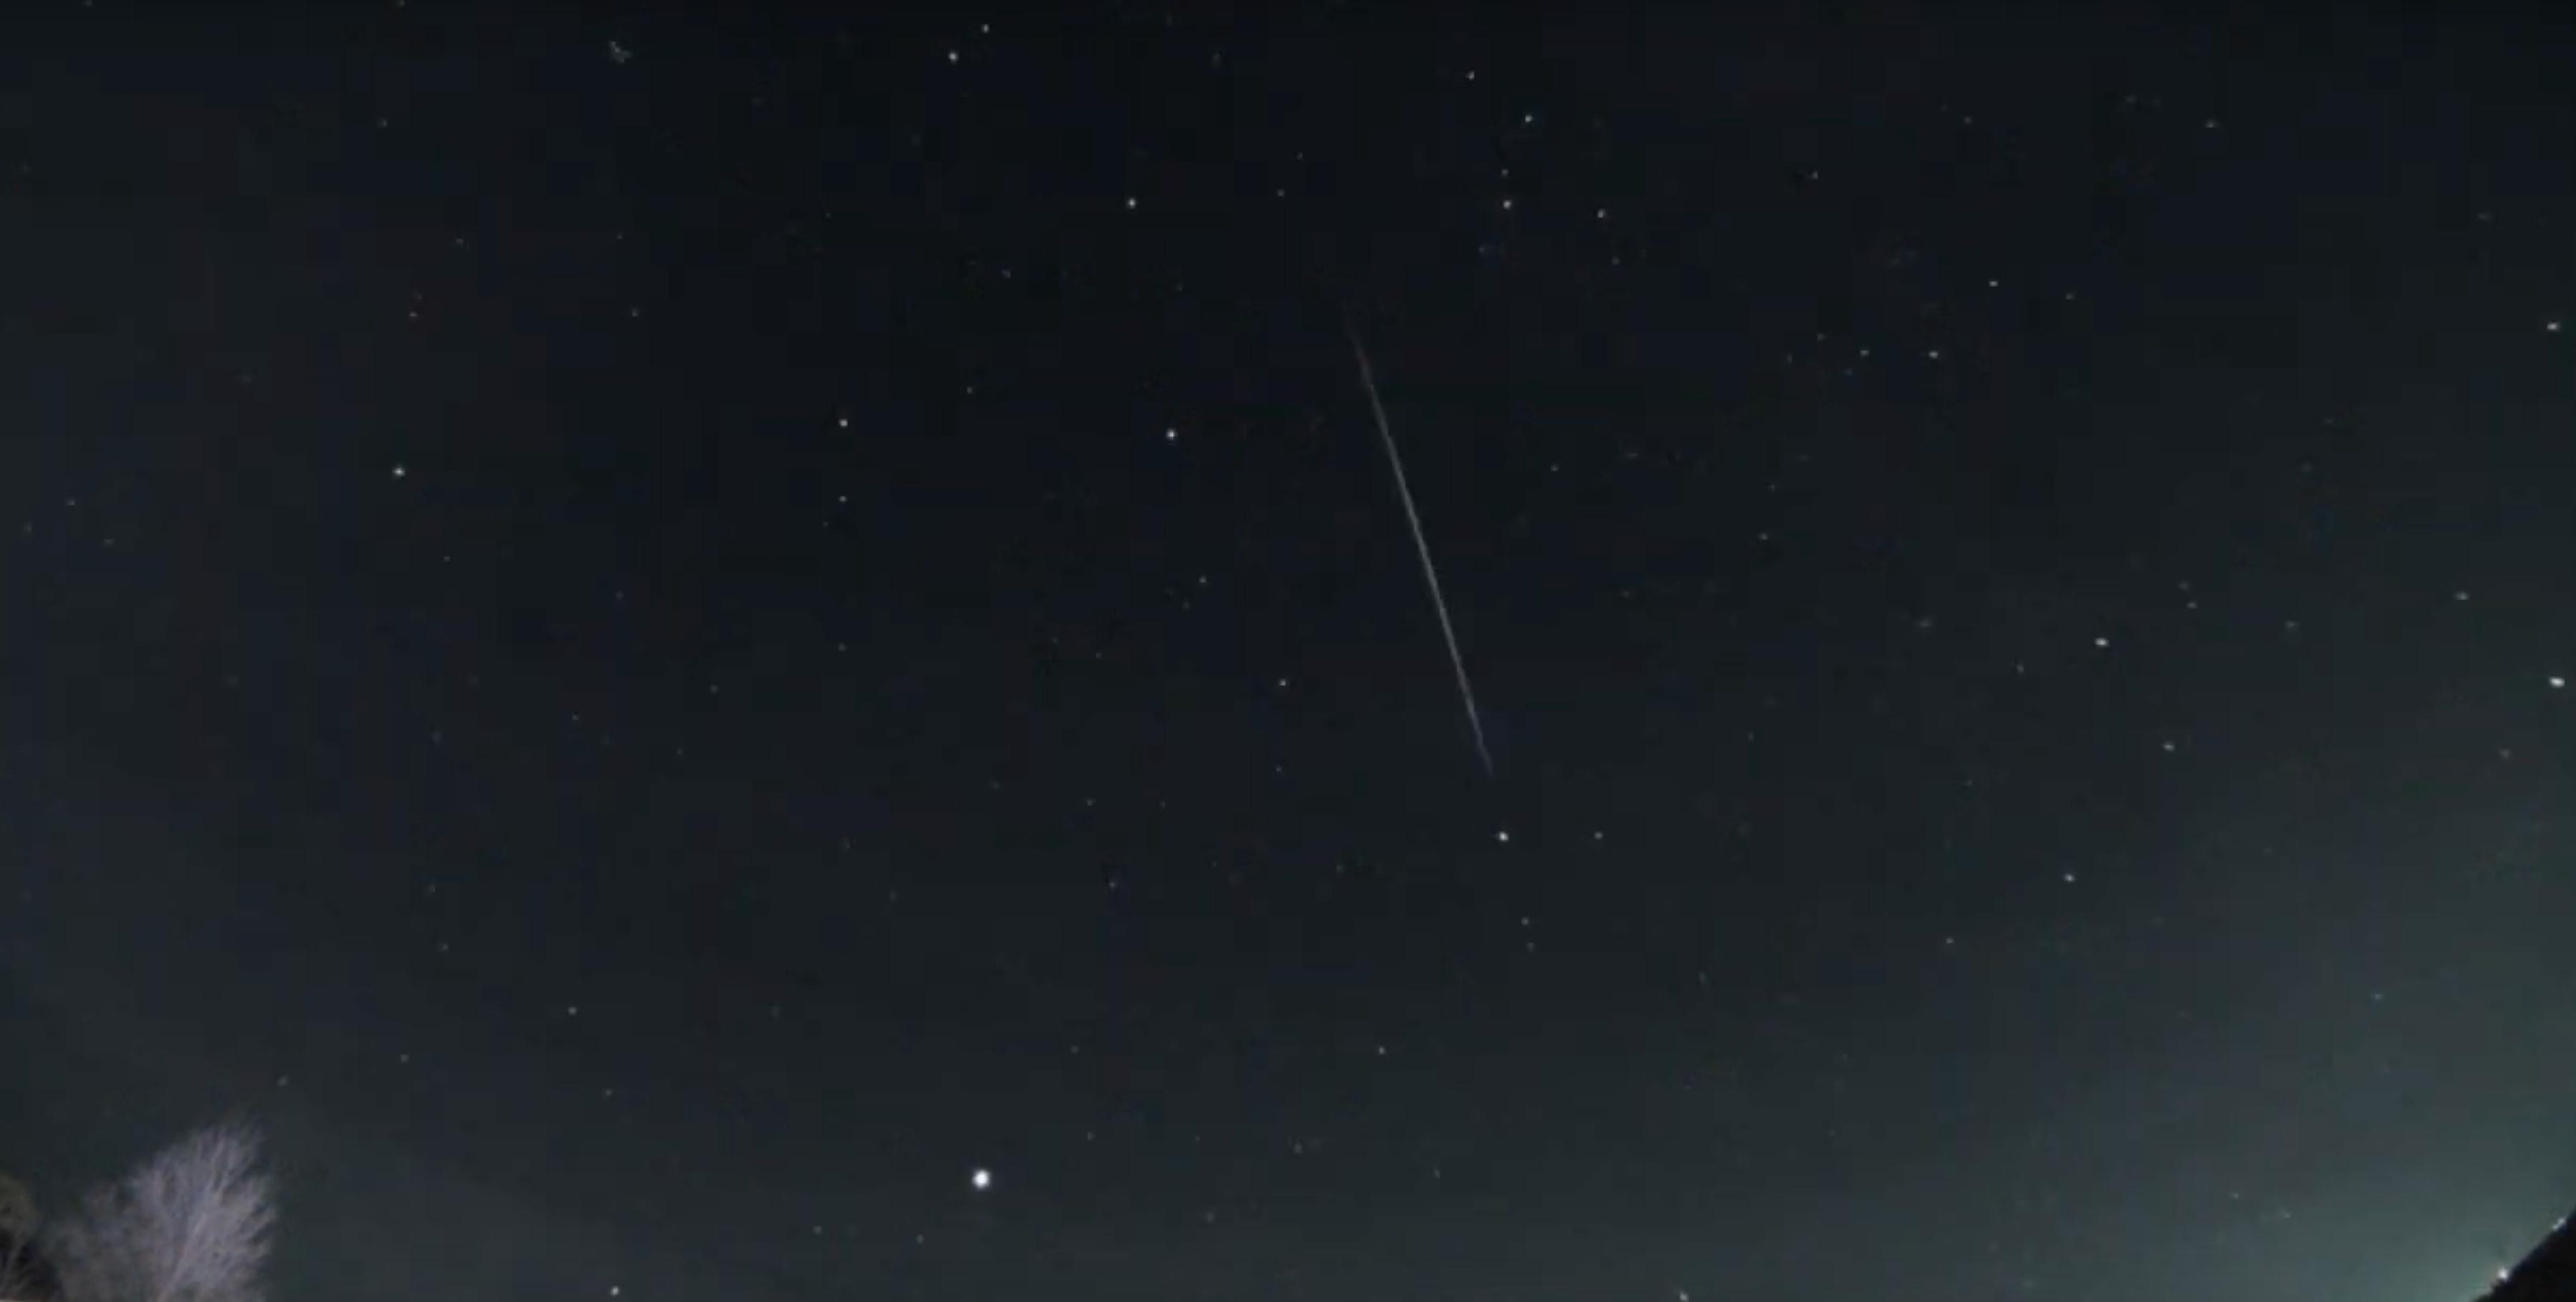Plane: (586, 22, 669, 70)
meteorite: (1320, 272, 1516, 869)
